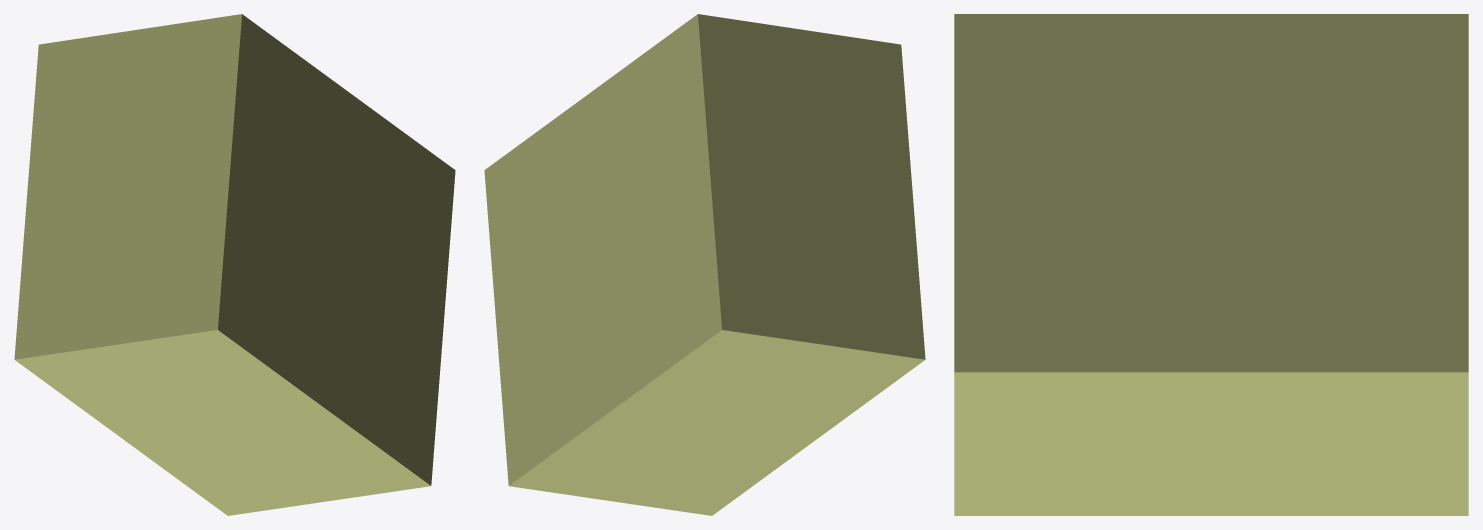
3 views of the same model, side by side, from view 1: azimuth 30°, elevation 25°; view 2: azimuth 150°, elevation 25°; view 3: azimuth 270°, elevation 25° (orthographic). The views are drawn at different scales.
Visible parts, largest first — view 1: 0_1_2_0_1_3_0_3_2_1_1; view 2: 0_1_2_0_1_3_0_3_2_1_1; view 3: 0_1_2_0_1_3_0_3_2_1_1.
Boxes of the visible parts, x1,y1,x2,y2 form: 0_1_2_0_1_3_0_3_2_1_1: (14,14,455,515); 0_1_2_0_1_3_0_3_2_1_1: (484,14,925,515); 0_1_2_0_1_3_0_3_2_1_1: (954,14,1468,515).
Bounding box in the file's own units: 5.54 × 7.65 × 9.
